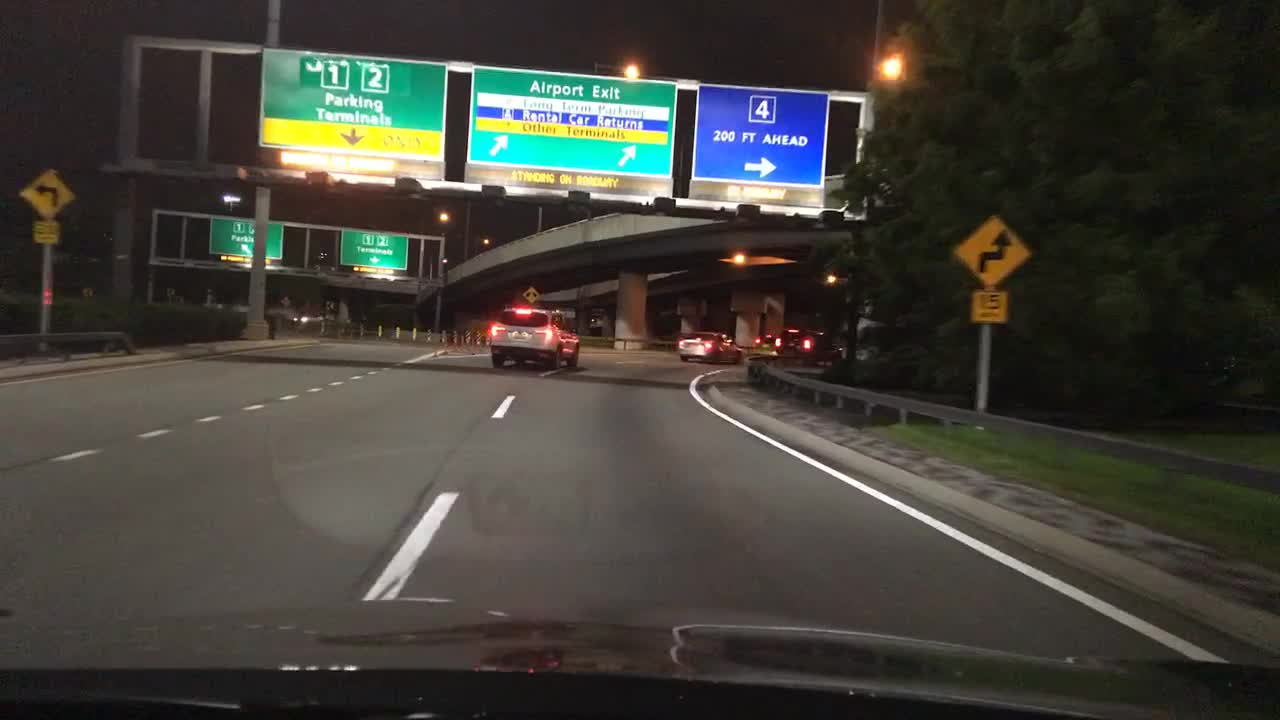car: (489, 305, 580, 373), (676, 331, 745, 366), (775, 329, 839, 363), (587, 311, 611, 336), (754, 333, 780, 347), (293, 313, 309, 322)
traffic sign: (464, 62, 679, 202), (258, 46, 448, 180), (689, 82, 827, 208), (950, 215, 1034, 287), (206, 215, 284, 265), (337, 229, 408, 278), (17, 166, 76, 221), (970, 291, 1010, 325), (32, 220, 63, 246), (521, 285, 542, 304), (80, 285, 94, 300), (162, 286, 177, 297), (323, 300, 334, 313), (279, 296, 291, 307)
